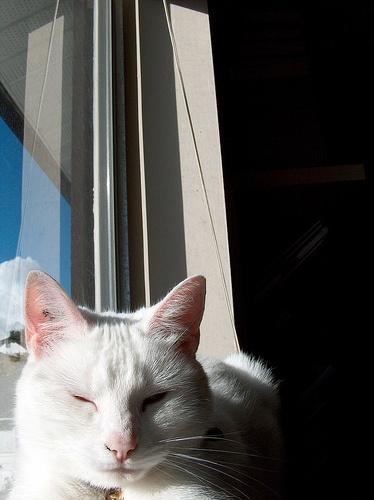cat: (7, 270, 282, 500)
